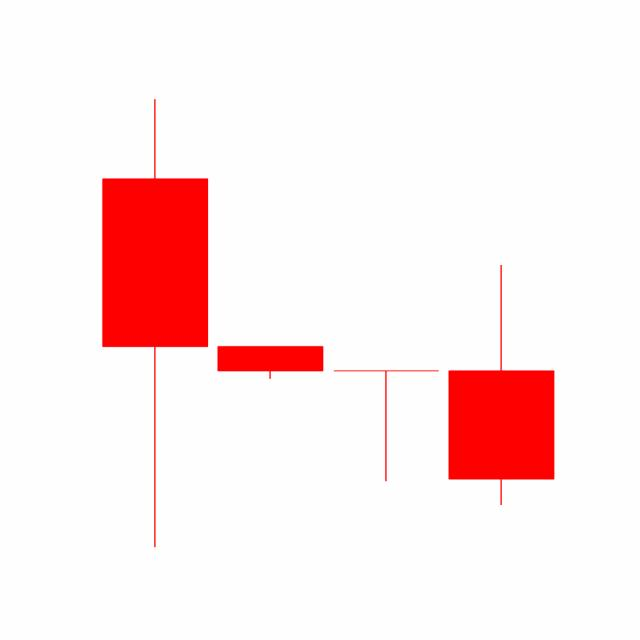Hanging Man: (328, 368, 444, 483)
